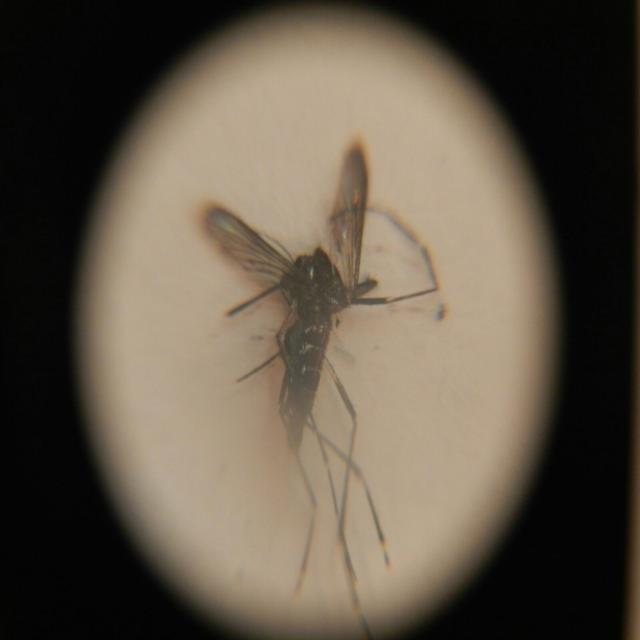albopictus: (204, 141, 442, 513)
